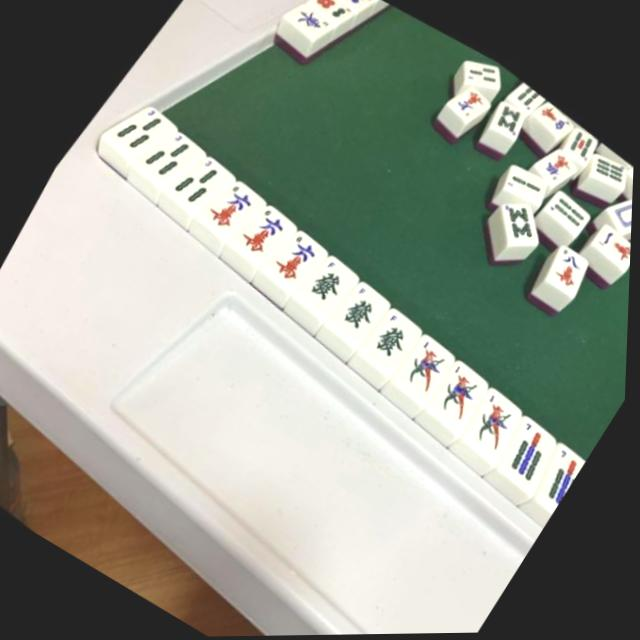hdg: (291, 245, 363, 319), (325, 275, 395, 347), (359, 303, 428, 374)
sb1: (456, 384, 531, 460), (422, 355, 495, 430), (389, 330, 460, 401)
sb3: (135, 116, 207, 190), (105, 87, 176, 161), (165, 143, 234, 215)
sb7: (490, 411, 568, 491), (524, 439, 592, 513)
sc6: (226, 192, 298, 267), (260, 221, 331, 295), (196, 167, 267, 241)
